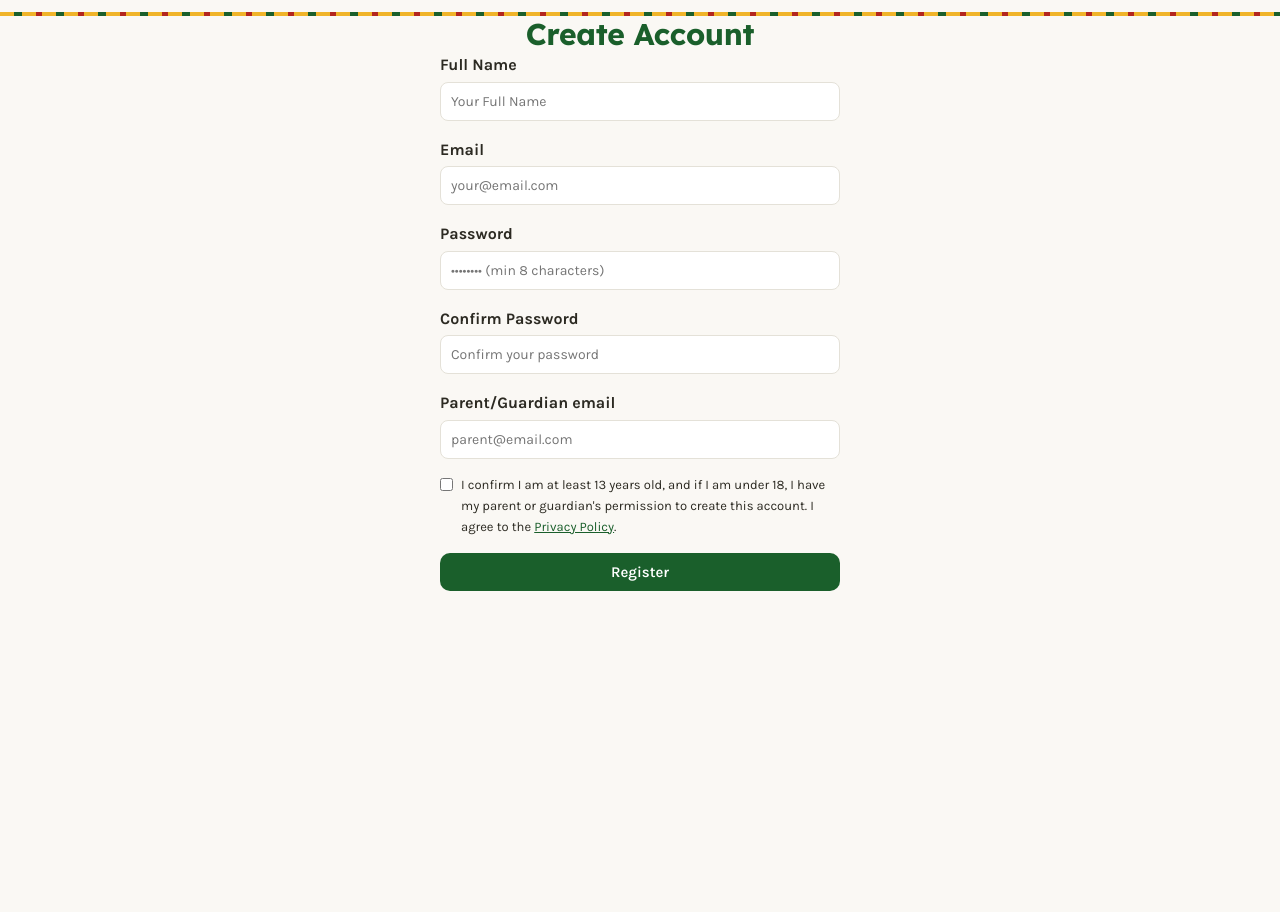
Scenario: Register › shows the server-side duplicate-email error inline
In the field labelled "Full Name": (640, 101) [440, 82, 840, 121], type "Test Student"
In the field labelled "Email": (640, 186) [440, 166, 840, 205], type "student@test.com"
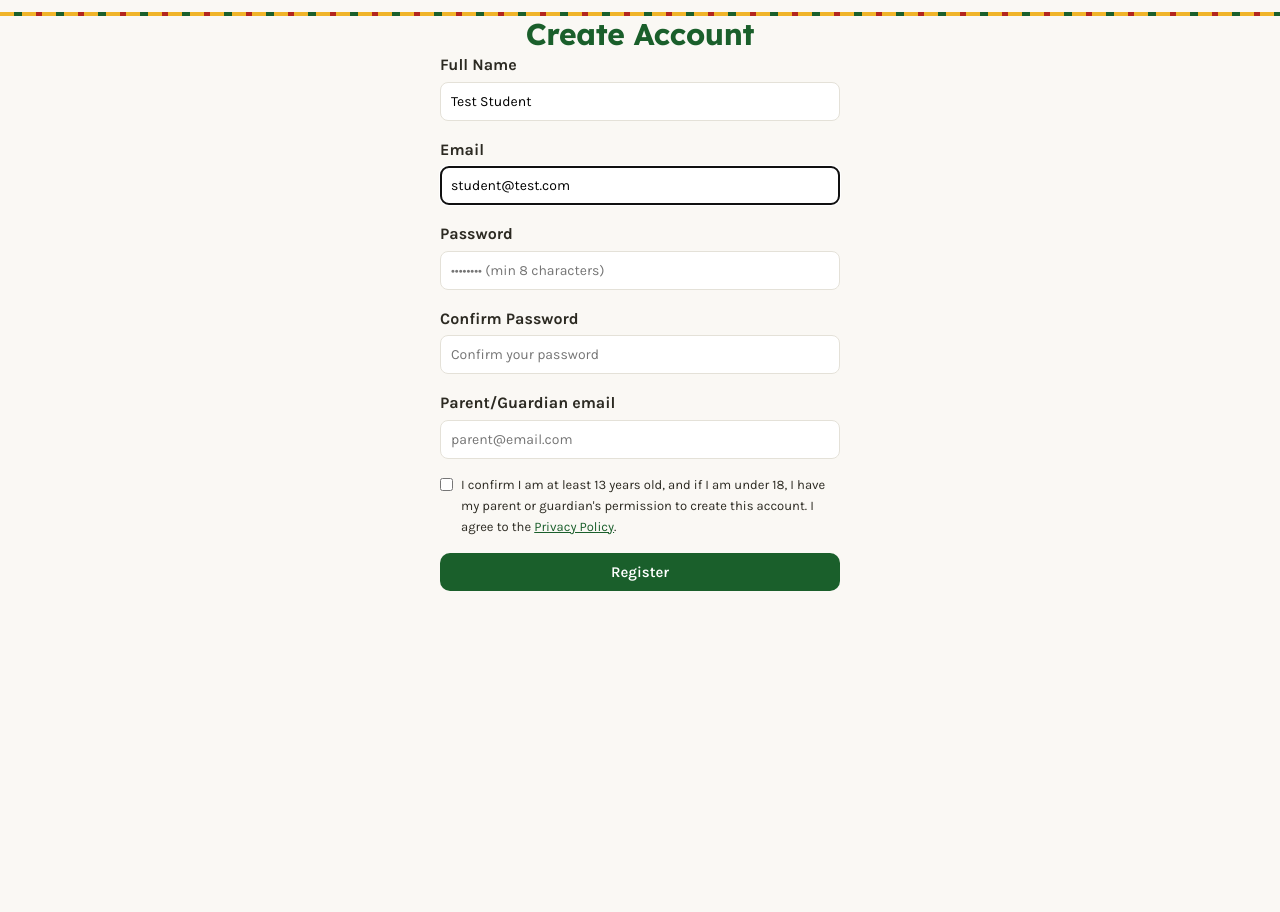
In the password field labelled "Password": (640, 270) [440, 251, 840, 290], type "password123"
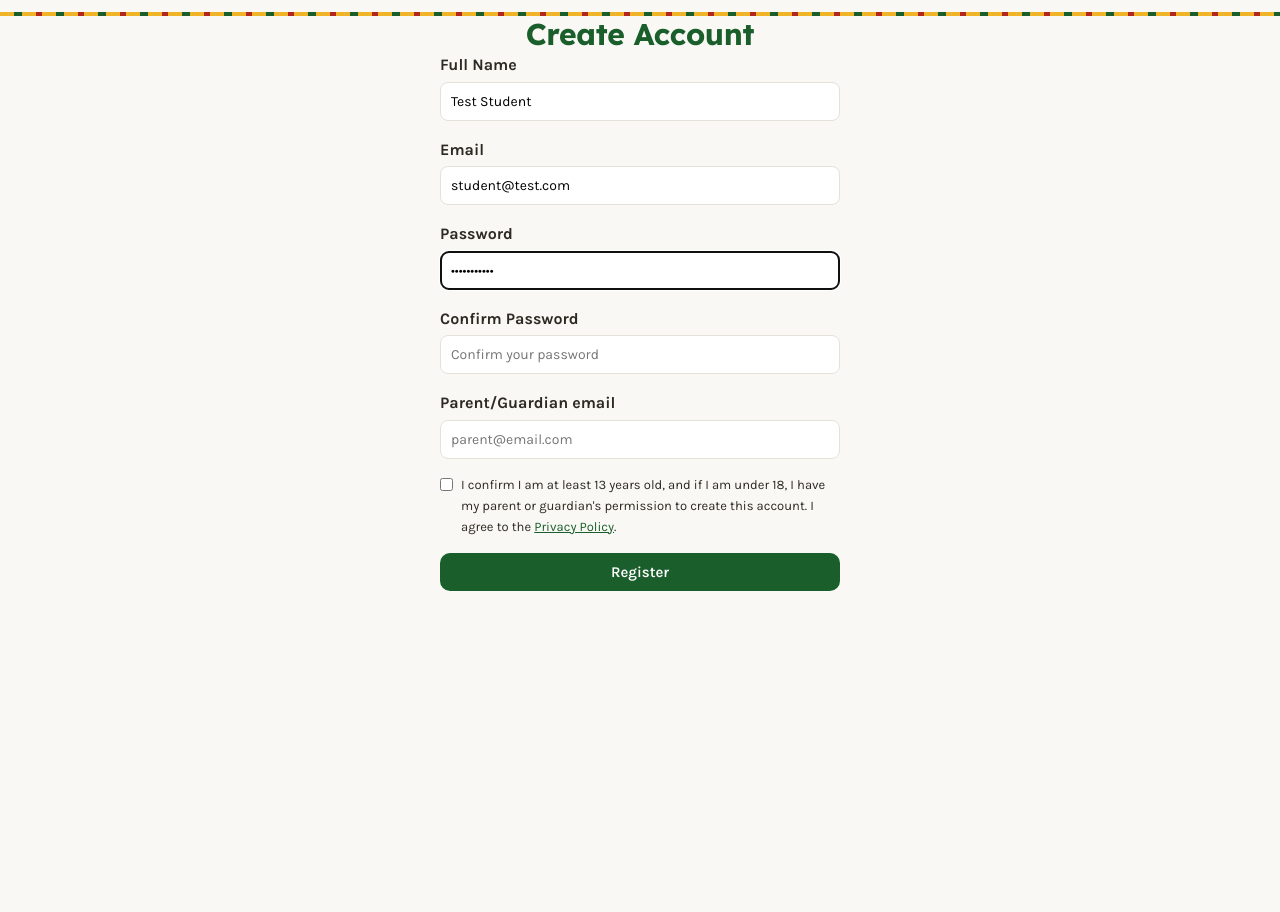
In the password field labelled "Confirm Password": (640, 355) [440, 335, 840, 374], type "password123"
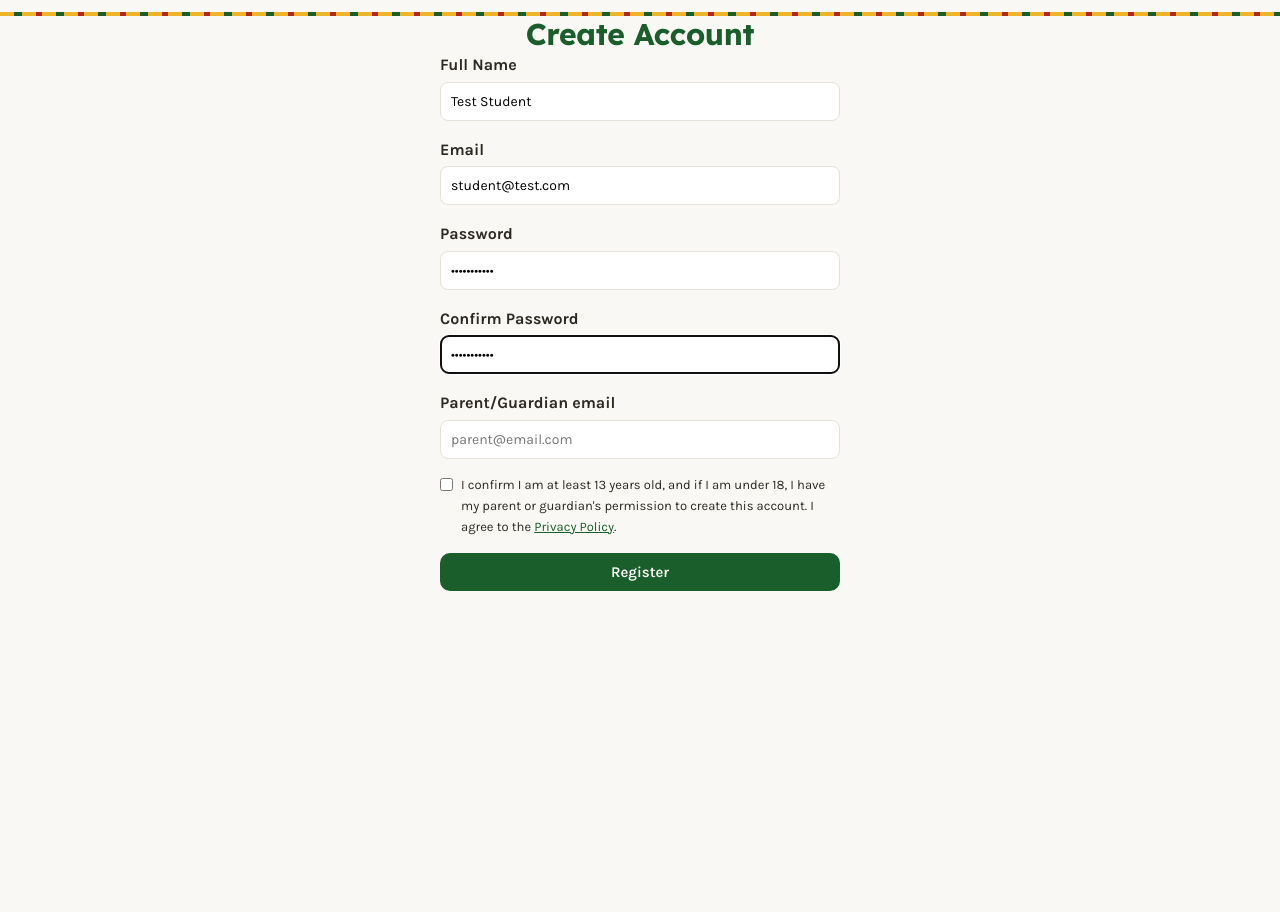
In the field labelled "Parent/Guardian email": (640, 440) [440, 420, 840, 459], type "guardian@test.com"
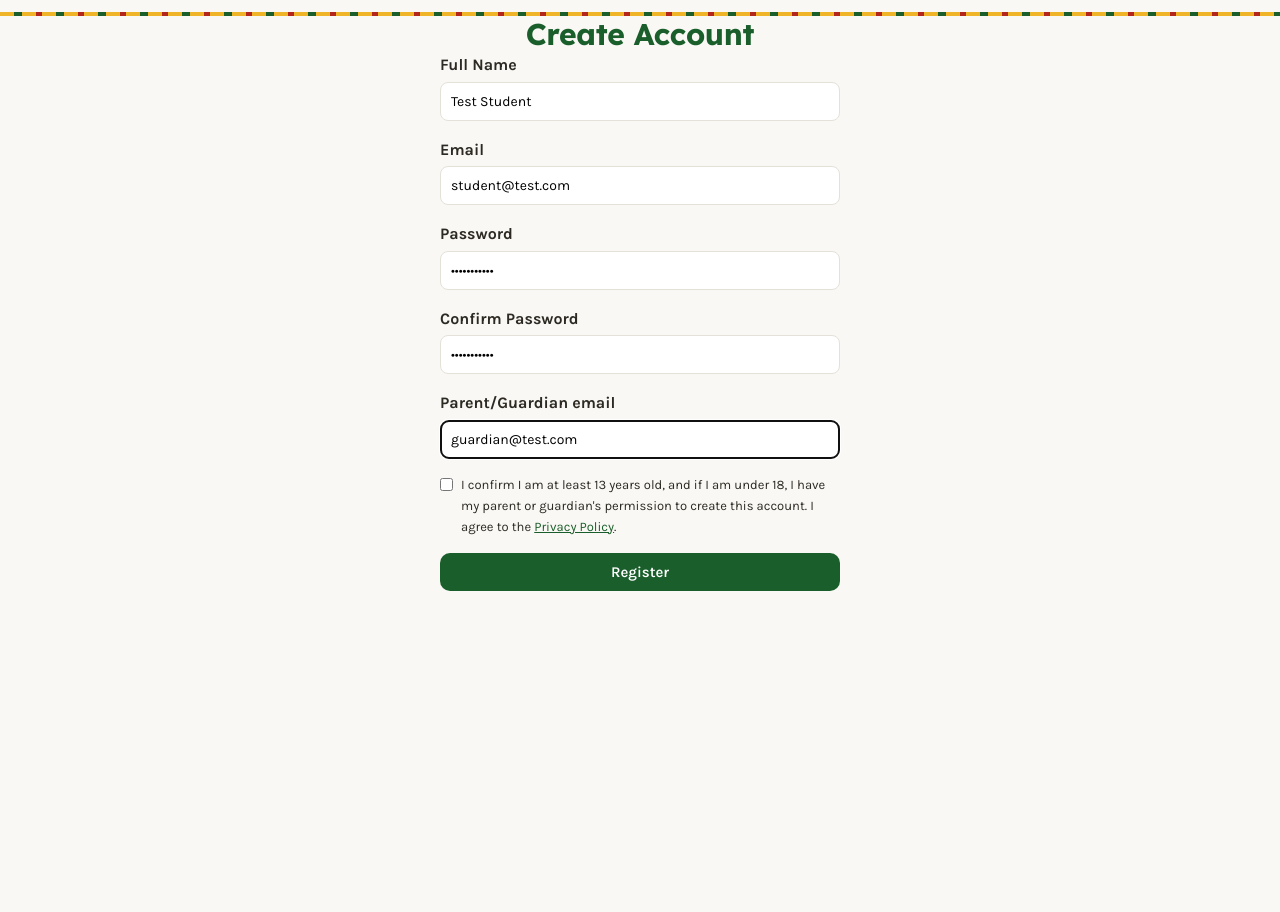
Click the checkbox: (446, 484) [440, 478, 453, 491]
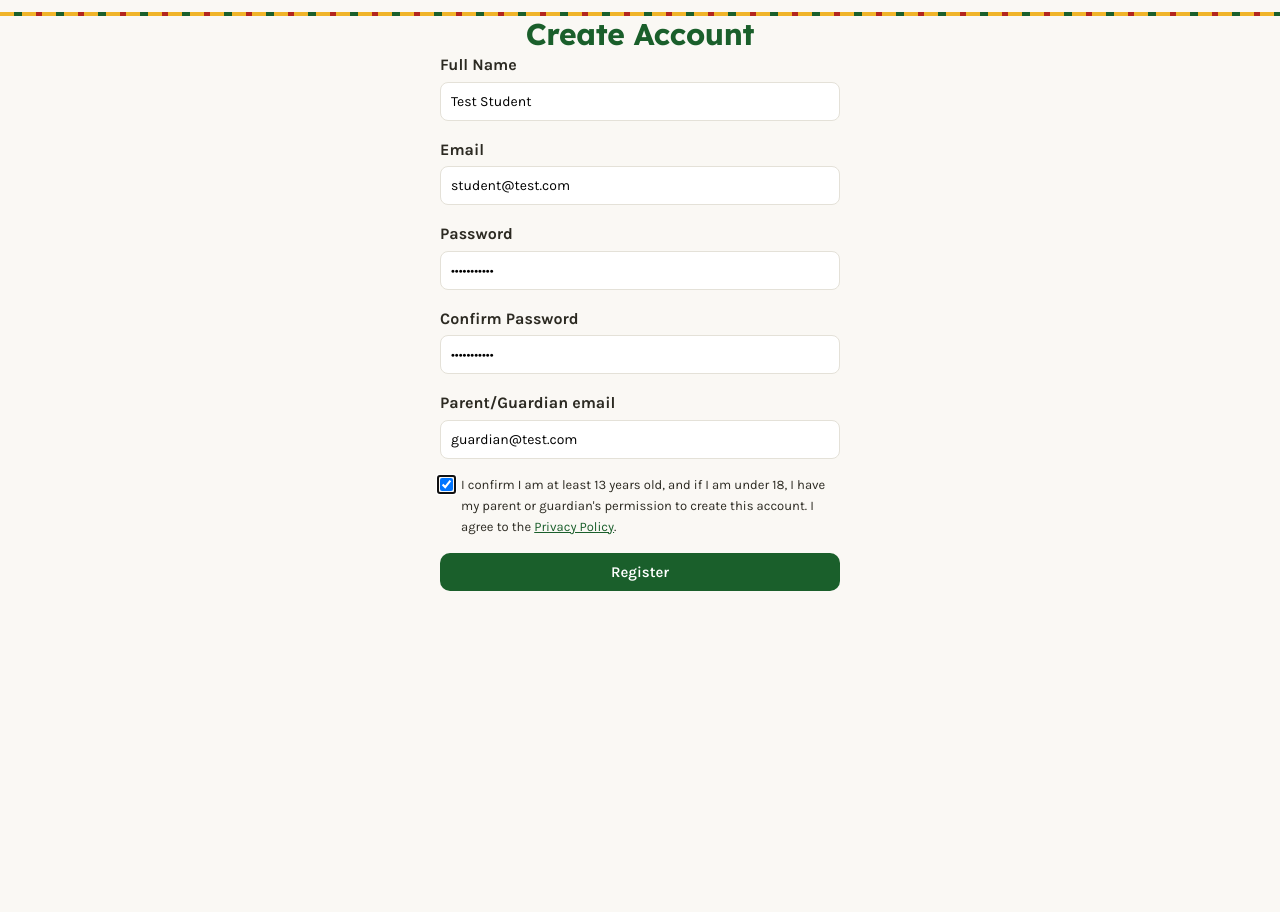
Click the button "Register": (640, 572) [440, 553, 840, 591]
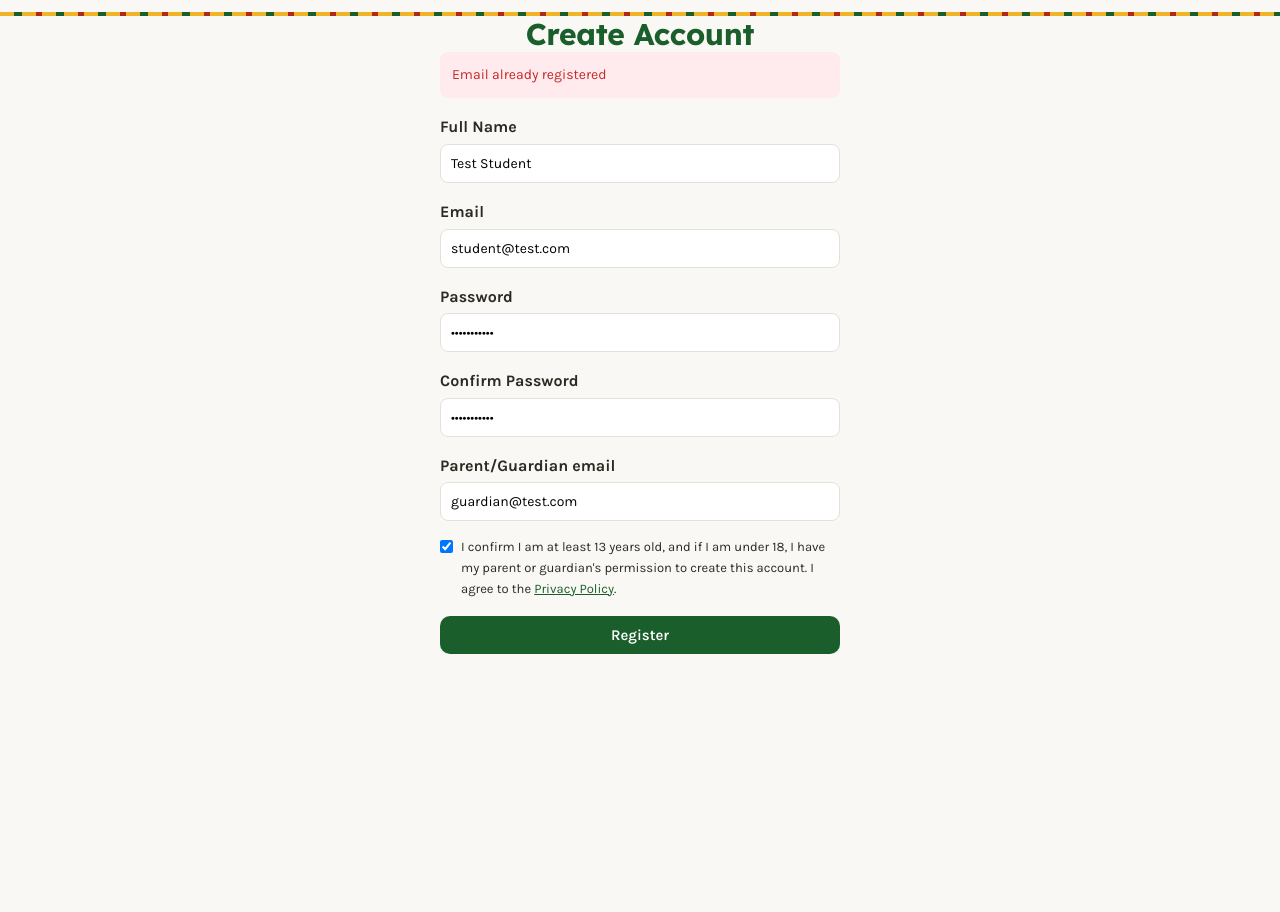
expect the text "Email already registered" is shown: met, box [440, 52, 840, 98]
